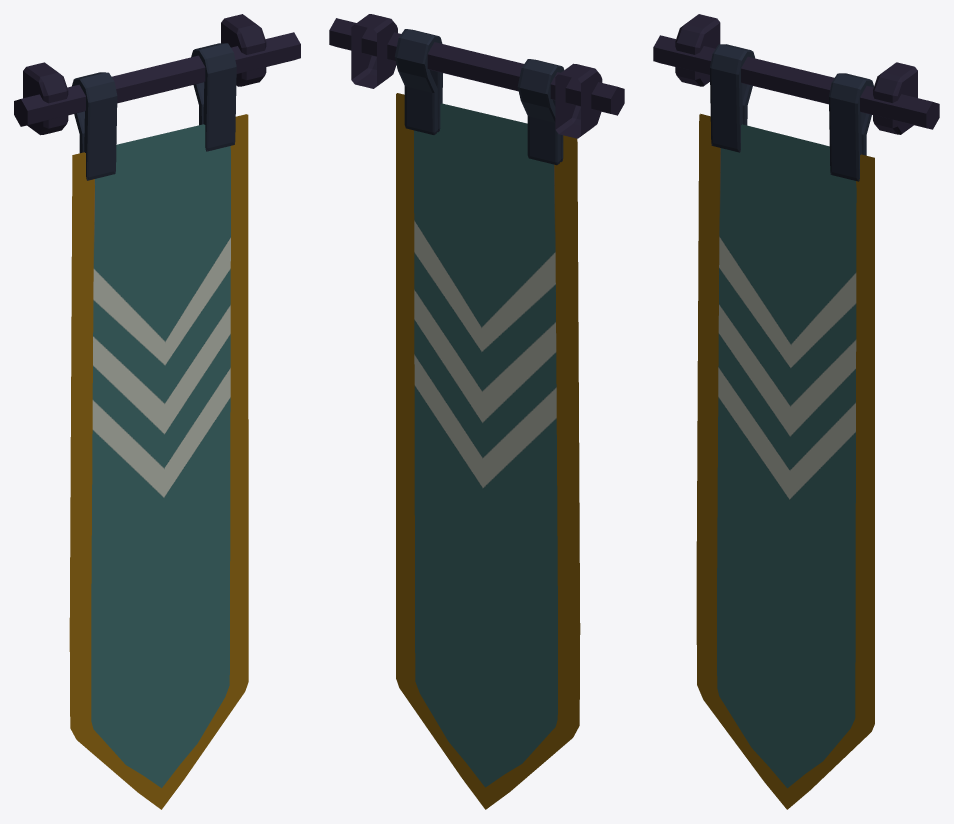
File: MCastle_Fixtures_Banner_07.FBX
3 views of the same model, side by side, from view 1: azimuth 30°, elevation 25°; view 2: azimuth 150°, elevation 25°; view 3: azimuth 330°, elevation 25° (orthographic). The views are drawn at different scales.
Parts seen in each view (by area): view 1: MCastle_Fixtures_Banner_07, MCastle_Fixtures_Banner_07_Iron_LOD0; view 2: MCastle_Fixtures_Banner_07, MCastle_Fixtures_Banner_07_Iron_LOD0; view 3: MCastle_Fixtures_Banner_07, MCastle_Fixtures_Banner_07_Iron_LOD0.
Part boxes in pixels (left/top/right/bottom): MCastle_Fixtures_Banner_07: left=69, top=114, right=248, bottom=809; MCastle_Fixtures_Banner_07_Iron_LOD0: left=14, top=14, right=300, bottom=180; MCastle_Fixtures_Banner_07: left=396, top=93, right=580, bottom=809; MCastle_Fixtures_Banner_07_Iron_LOD0: left=329, top=14, right=624, bottom=165; MCastle_Fixtures_Banner_07: left=696, top=113, right=874, bottom=809; MCastle_Fixtures_Banner_07_Iron_LOD0: left=653, top=14, right=939, bottom=181.
Size of what is drawn, in the model's own units: 1.68 by 4.43 by 0.2762.
